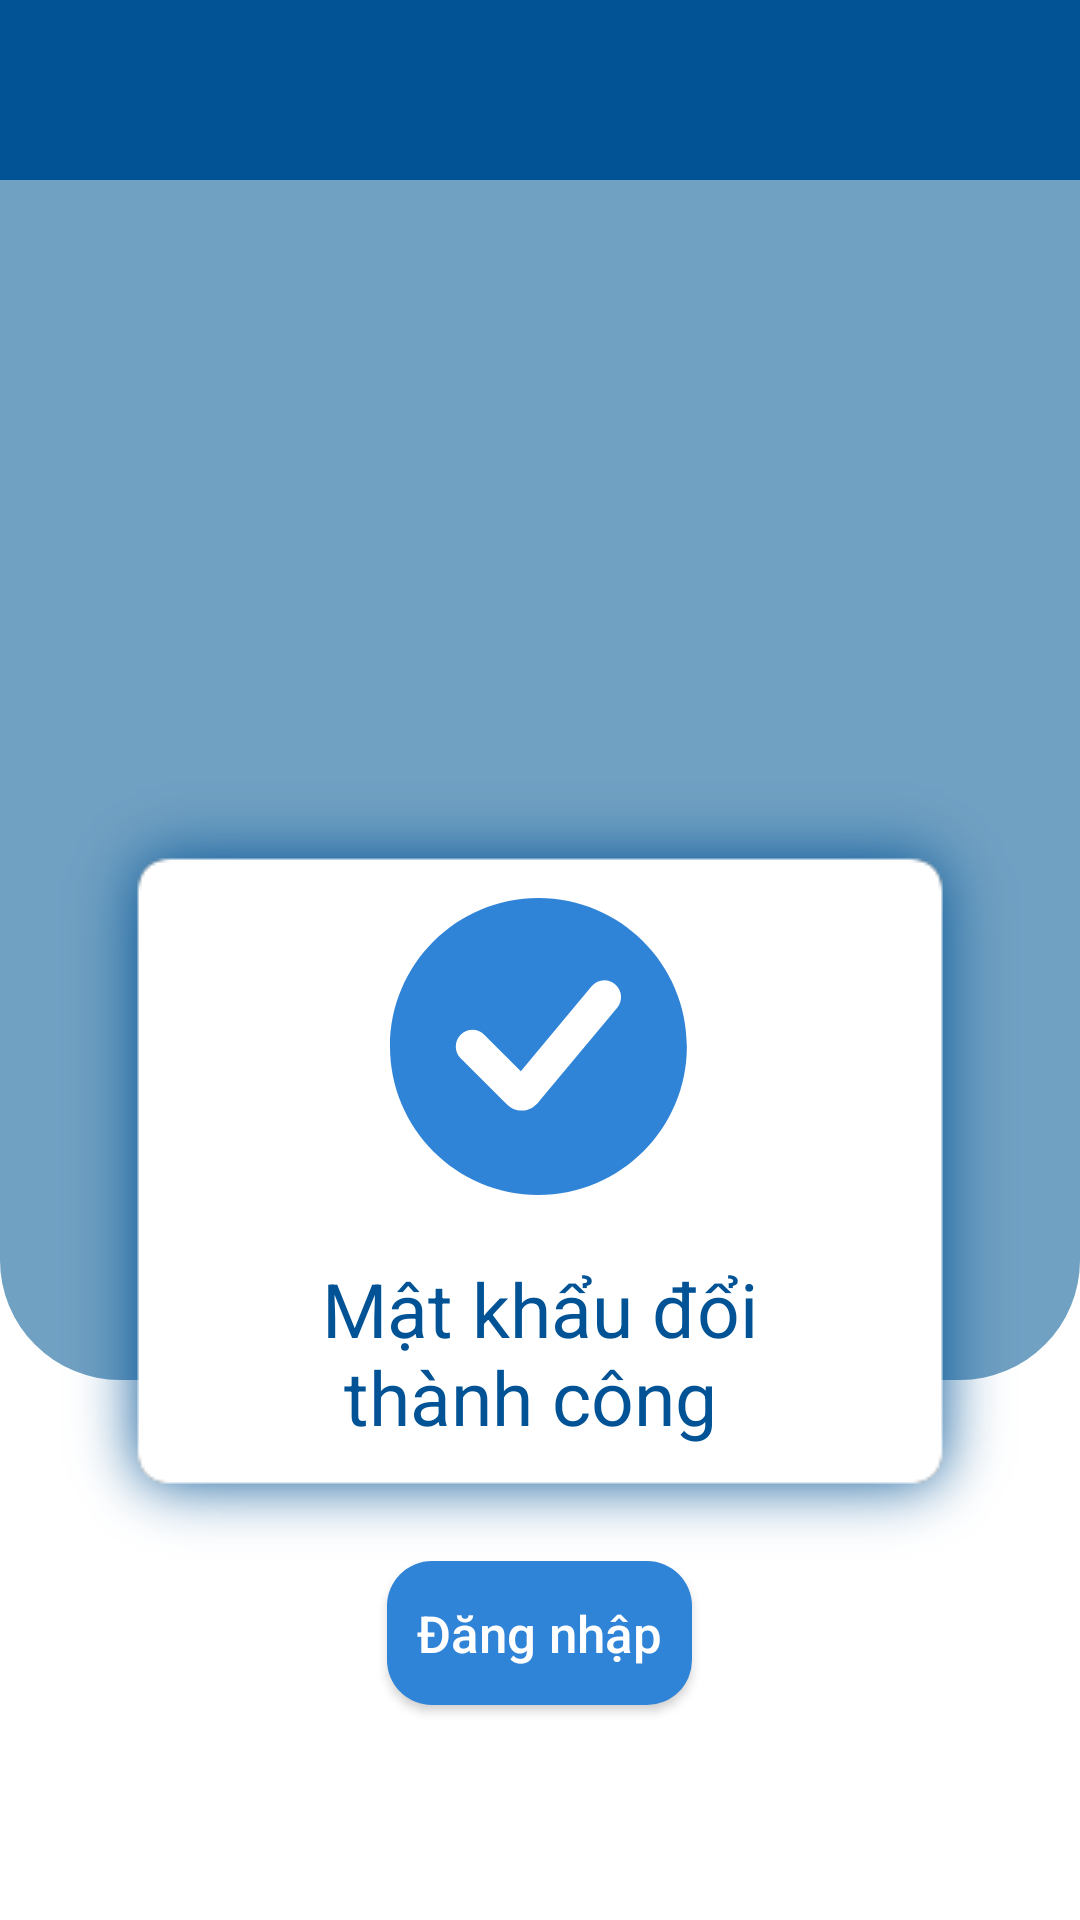

Icon bounding boxes for this 1080*1920 phone screenshot, format [x1,y1,x2,y2]:
success: [390,898,687,1195]
